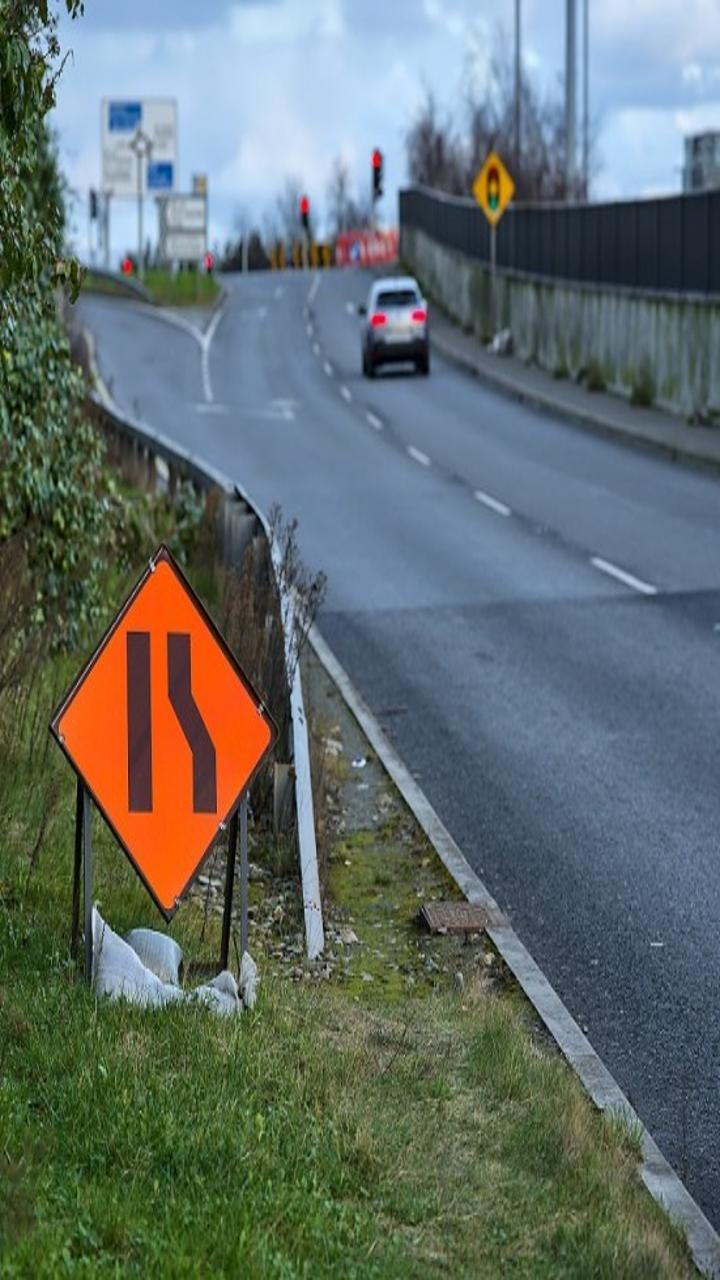Traffic sign: (42, 535, 276, 928), (460, 149, 523, 253)
vehicle: (339, 271, 456, 395)
